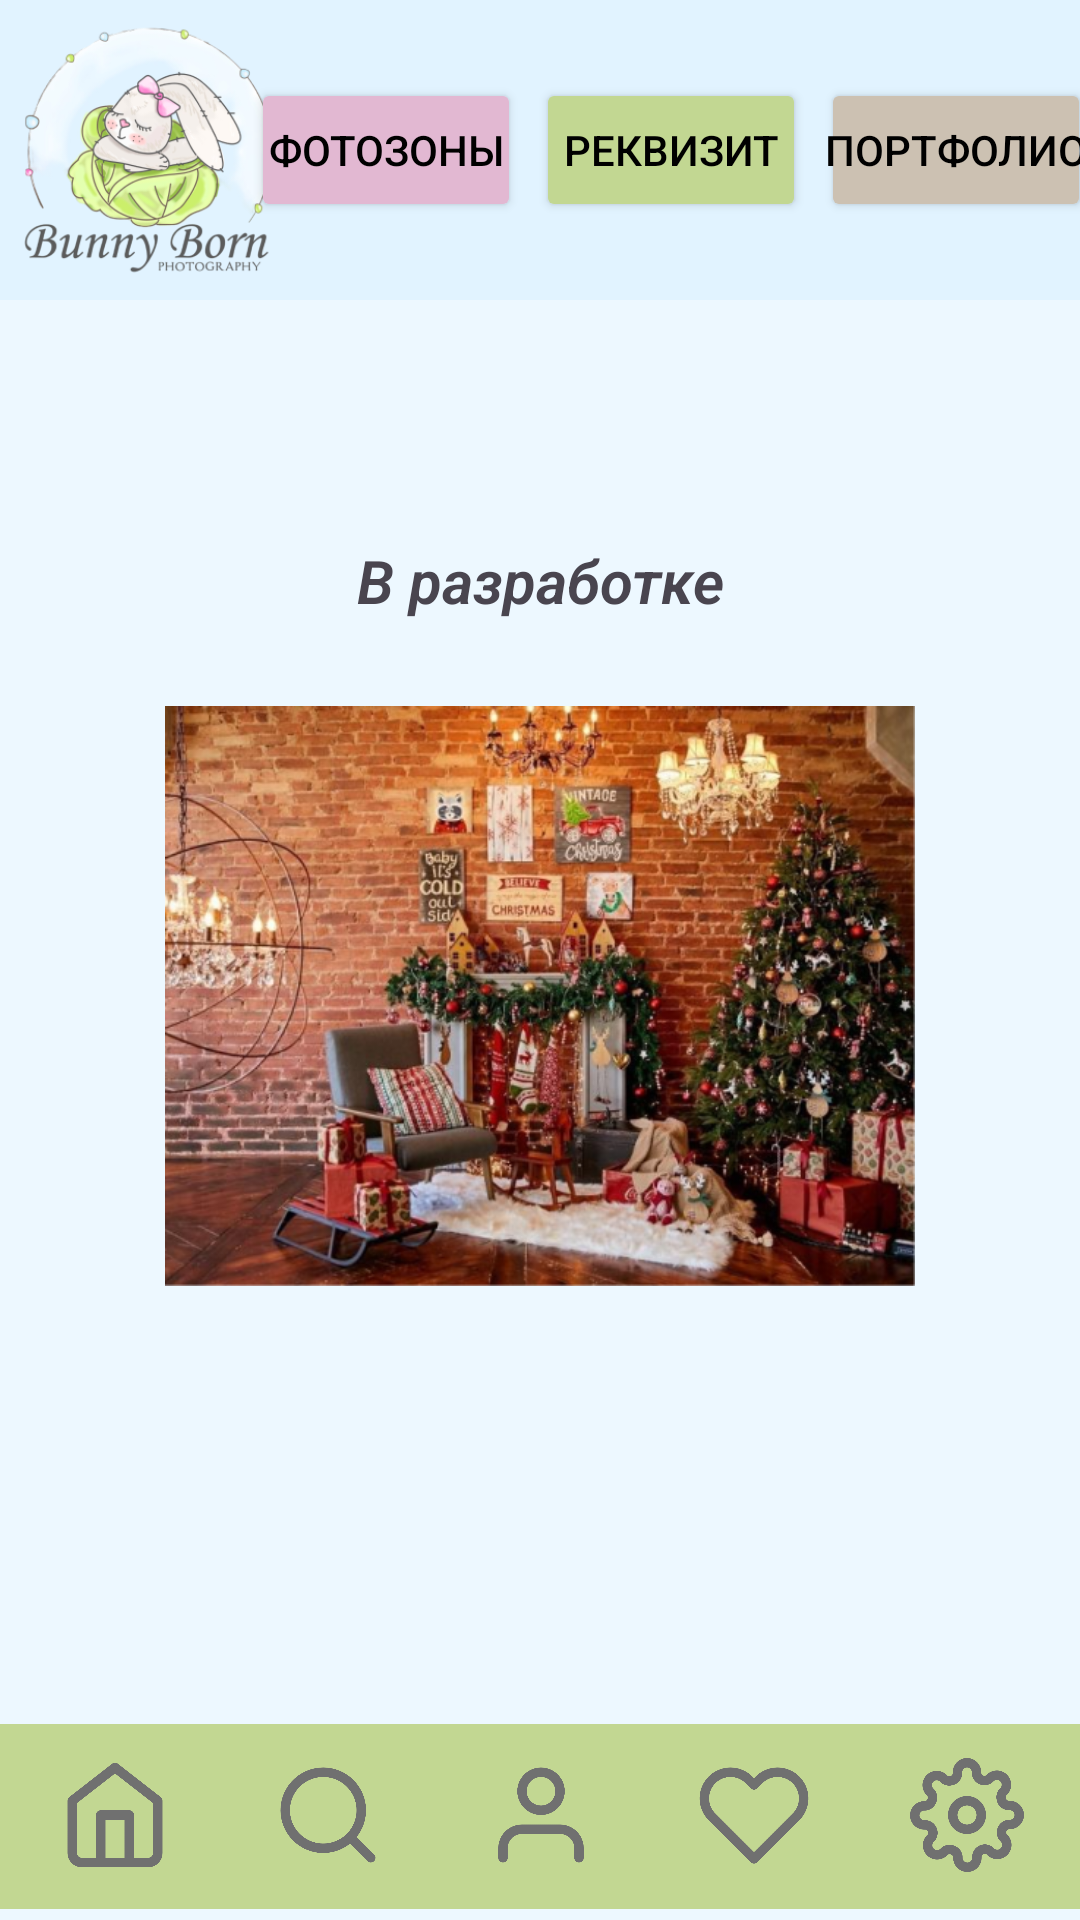

Icon click points for this 1080 x 1920 phone screenshot, format (x,y):
home: (115,1815)
likes: (754,1815)
search: (328,1815)
settings: (967,1815)
user: (541,1815)
